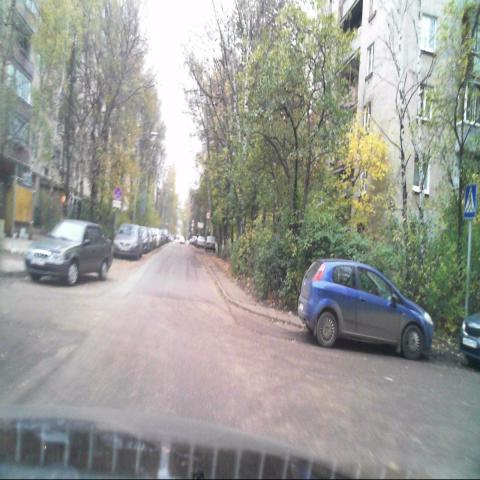3_27: (114, 186, 122, 199)
